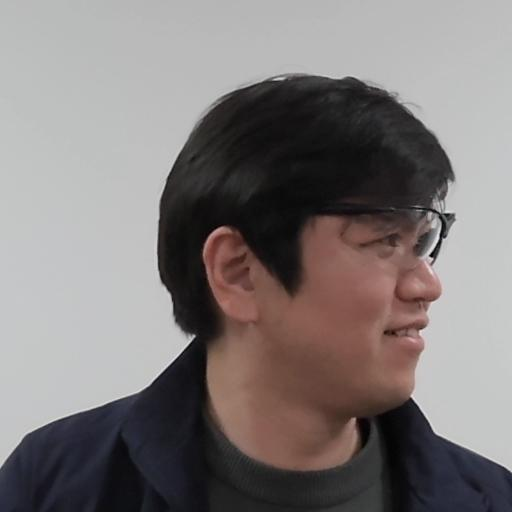glasses: (150, 63, 472, 424)
